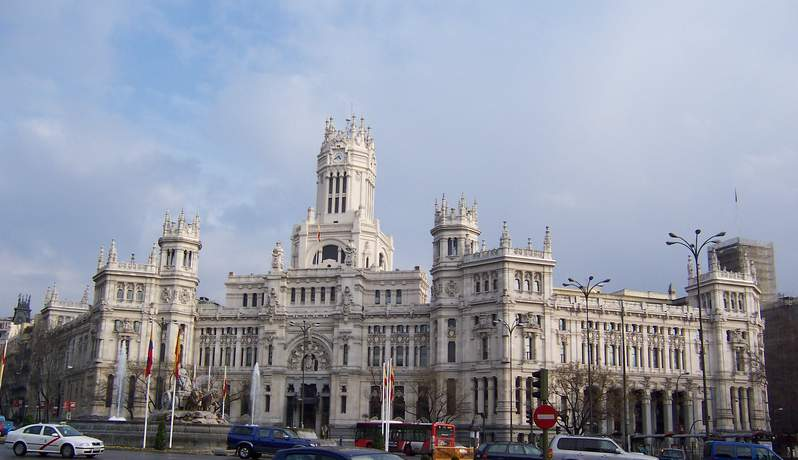fachada: (3, 102, 764, 451)
poste: (666, 217, 730, 449), (559, 267, 616, 430), (487, 294, 532, 436), (614, 292, 643, 447), (291, 314, 328, 418)
